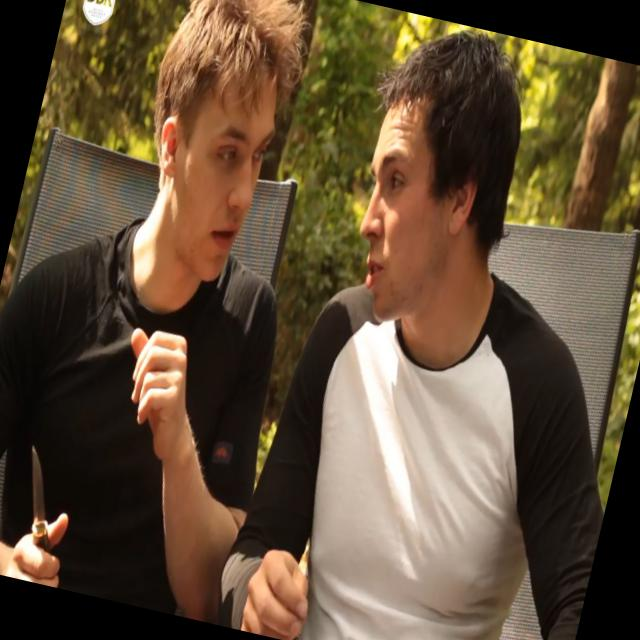knife: (0, 423, 96, 588)
